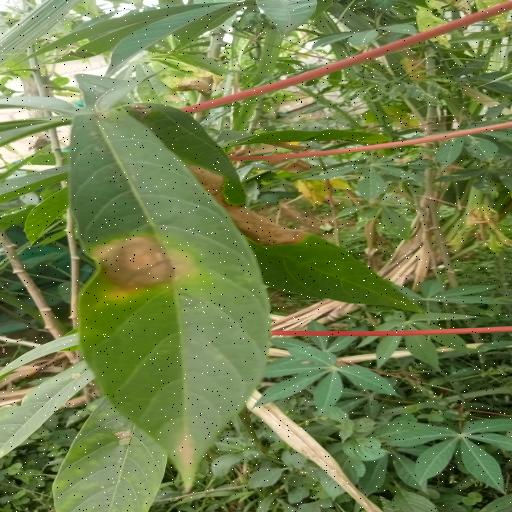Cassava_Bacterial_Disease: (23, 94, 434, 481)
